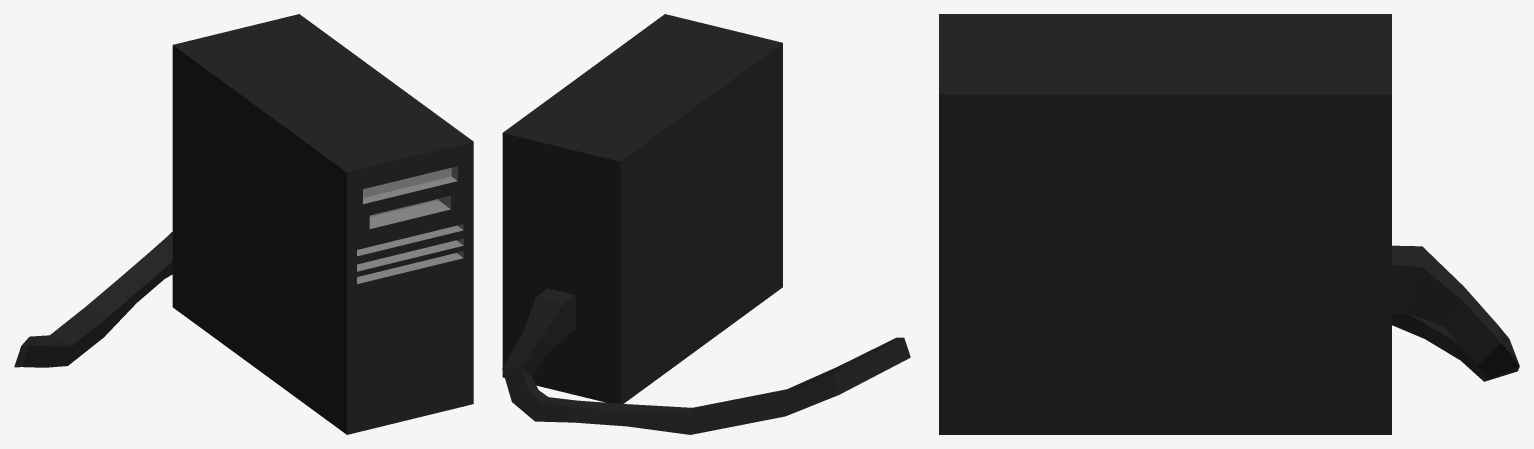
File: case.fbx
3 renders of one model, left to right at view 1: azimuth 30°, elevation 25°; view 2: azimuth 150°, elevation 25°; view 3: azimuth 270°, elevation 25°, orthographic. The views are drawn at different scales.
Visible parts, largest first — view 1: Cube.009; view 2: Cube.009; view 3: Cube.009.
Part boxes in pixels (x1,y1,x2,y2): Cube.009: (14,14,473,434); Cube.009: (502,14,910,434); Cube.009: (939,14,1519,434).
Bounding box in the file's own units: 74.63 × 53.58 × 79.91.
Materials: 1 (1 with a texture image).
